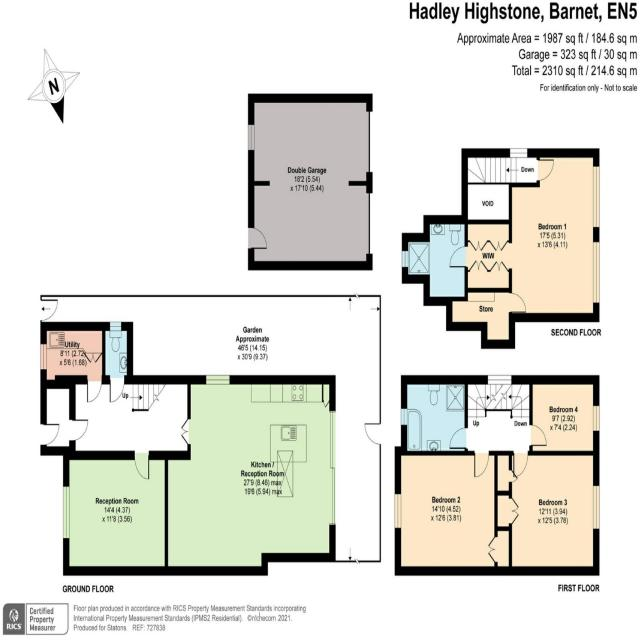DOOR: (133, 450, 150, 480), (109, 375, 126, 404), (86, 375, 103, 403), (513, 450, 529, 479), (40, 423, 60, 446), (69, 418, 88, 442), (449, 245, 468, 268), (474, 450, 489, 478), (449, 427, 468, 449), (508, 292, 527, 314), (529, 424, 547, 447), (536, 159, 554, 181)
DOUBLE DOOR: (179, 414, 191, 449)
ROOM: (165, 375, 336, 576), (509, 148, 600, 323), (394, 446, 512, 576), (63, 446, 168, 576), (494, 451, 600, 576), (529, 375, 600, 456)
WINDOW: (592, 165, 600, 228), (592, 241, 600, 304), (63, 485, 70, 540), (593, 485, 600, 529), (487, 374, 512, 385), (394, 493, 401, 529), (206, 375, 230, 385), (40, 343, 47, 371), (509, 148, 528, 158), (593, 405, 600, 432), (401, 250, 409, 269), (400, 408, 408, 426), (109, 321, 122, 332)
